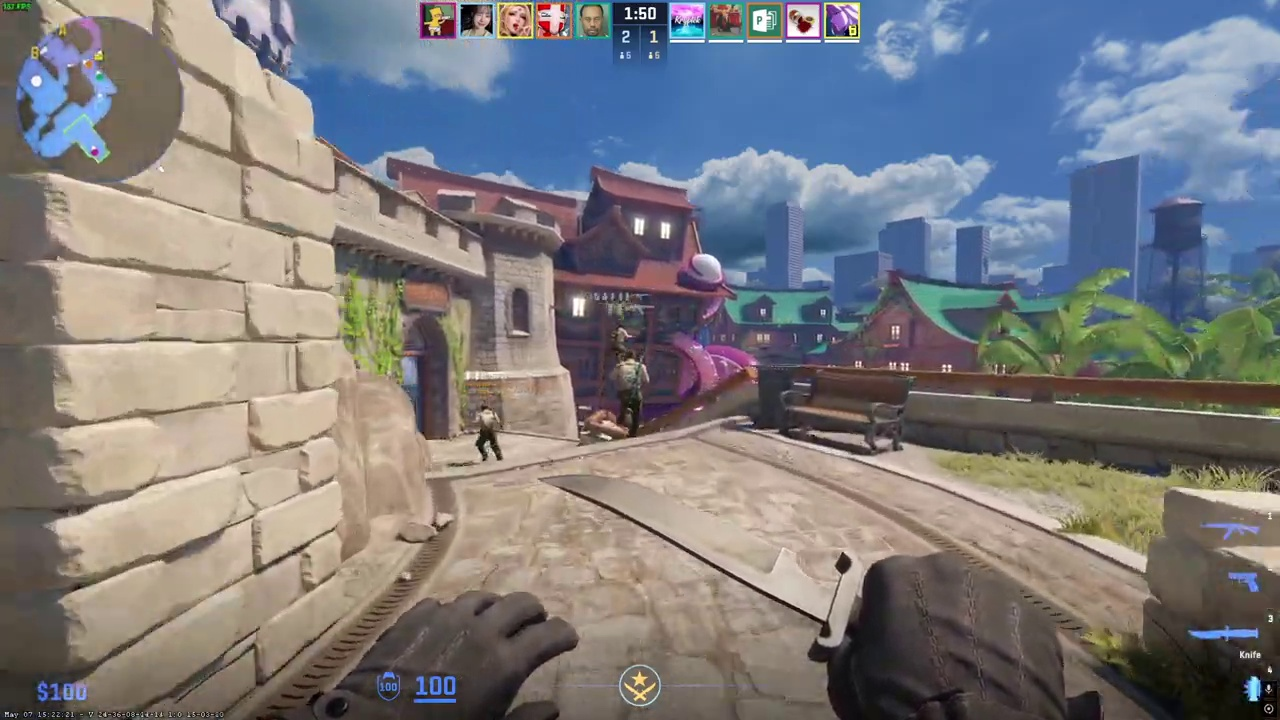Terrorist: (611, 350, 648, 436), (475, 405, 501, 462)
